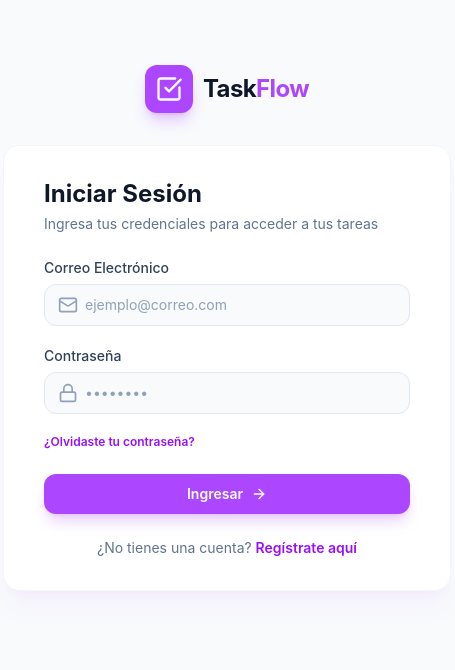
Scenario: Auth: Register (E2E) › should show errors if form is invalid
What coordinates should you click on to do the following:
click the link "Regístrate aquí"
I would click on:
 (307, 548)
Its box is [256,539,357,556].
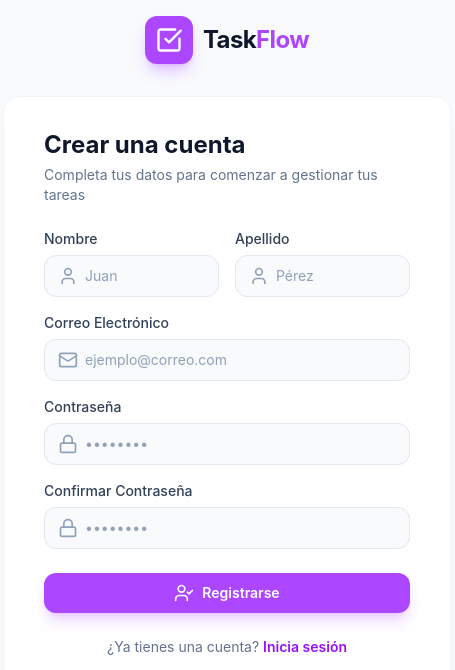
Result: the heading "Crear una cuenta" is shown at [44,130,246,159]
What coordinates should you click on to do the following:
click the submit button
I would click on:
 (227, 593)
Its box is [44,573,410,613].
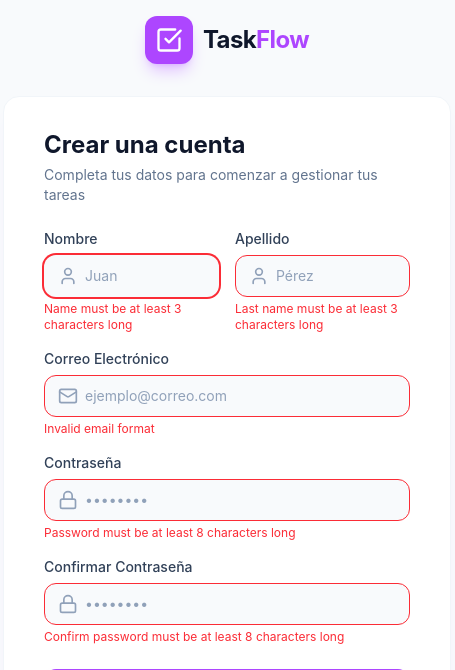
Result: the text "Name must be at least 3 characters long" is shown at [44,301,182,332]
Result: the text "Last name must be at least 3 characters long" is shown at [235,301,410,333]
Result: the text "Invalid email format" is shown at [44,421,155,436]
